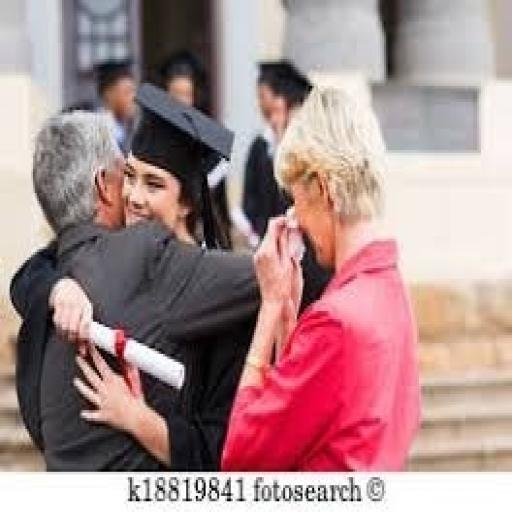hugging: (8, 96, 304, 472), (217, 83, 425, 472)
